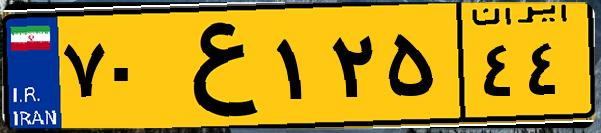0: (110, 28, 158, 98)
1: (270, 28, 330, 110)
2: (330, 28, 385, 110)
4: (475, 38, 525, 113), (525, 38, 570, 115)
5: (385, 28, 445, 110)
7: (57, 26, 110, 100)
ع: (158, 12, 270, 120)
